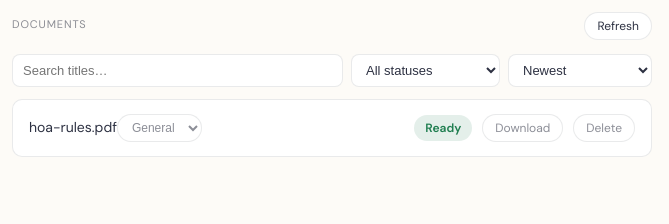
Scenario: DocumentsView delete flow (docs/21 §1.4/§1.9) › shows an inline confirm, then deletes on confirm click
This screenshot has width=669, height=224.
Check: the text "hoa-rules.pdf" is shown, box [29,118,117,136]
Click the button with aria-label "Delete hoa-rules.pdf".
click(604, 128)  # box [573,114,635,142]
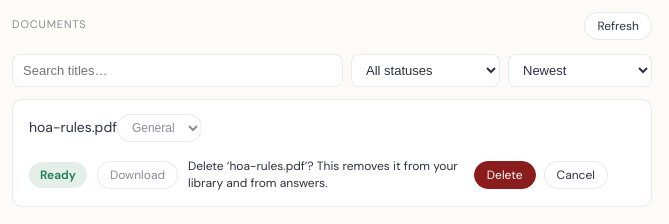
Check: the text "Delete .hoa-rules.pdf.? This removes it from your library and from answers." is shown, box [188,158,466,192]
Click the button "Delete".
click(505, 175)  # box [474,161,536,189]
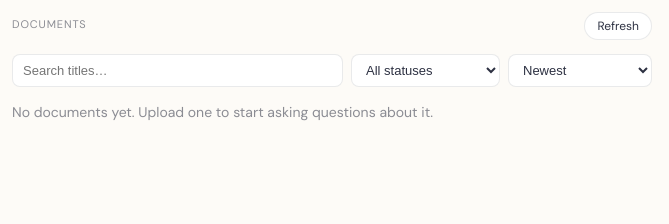
Check: the text "hoa-rules.pdf" is gone
